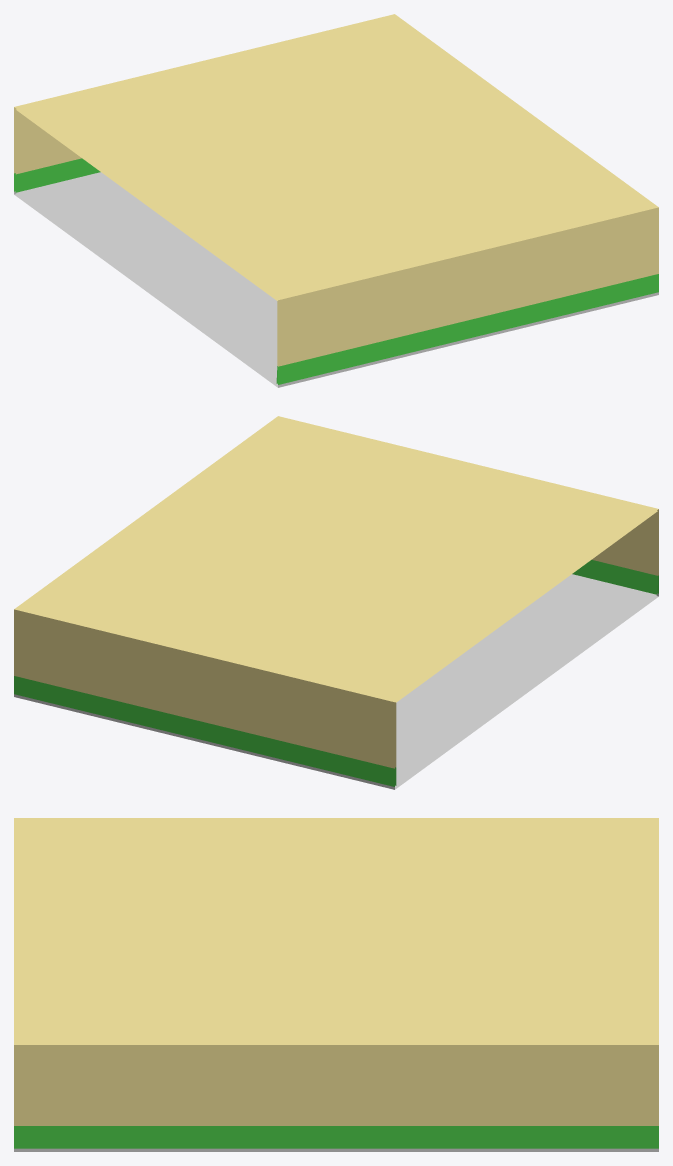
Rendered from interior_school_room_north_lobby_01.fbx.
The picture shows the model from 3 angles, top to bottom: view 1: azimuth 30°, elevation 25°; view 2: azimuth 150°, elevation 25°; view 3: azimuth 270°, elevation 25°; orthographic projection. The views are drawn at different scales.
Parts seen in each view (by area): view 1: Visible Mesh; view 2: Visible Mesh; view 3: Visible Mesh.
Boxes of the visible parts, left/top/right/bottom form: Visible Mesh: left=14, top=14, right=658, bottom=387; Visible Mesh: left=14, top=416, right=658, bottom=789; Visible Mesh: left=14, top=818, right=658, bottom=1151.
Bounding box in the file's own units: 2820 × 620 × 3387.
